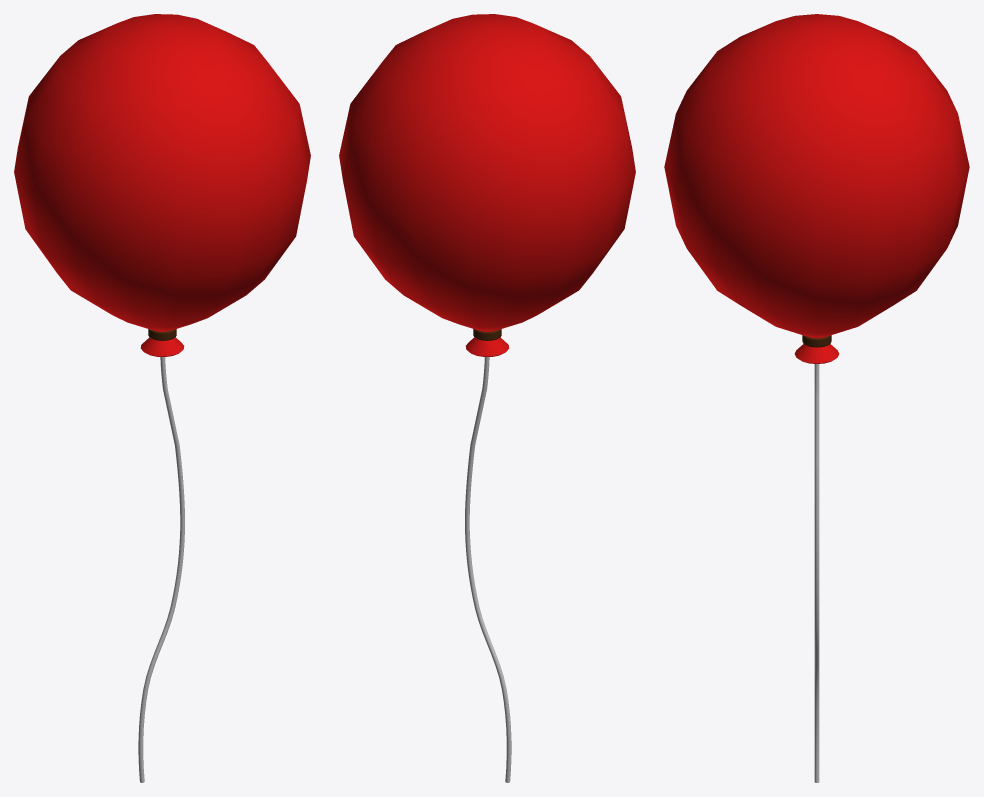
The model's file is Balloon_Red.FBX.
3 views of the same model, side by side, from view 1: azimuth 30°, elevation 25°; view 2: azimuth 150°, elevation 25°; view 3: azimuth 270°, elevation 25° (orthographic).
Parts seen in each view (by area): view 1: Sphere001; view 2: Sphere001; view 3: Sphere001.
Boxes of the visible parts, box(x1,y1,x2,y2) form: Sphere001: box(14, 14, 310, 782); Sphere001: box(339, 14, 635, 782); Sphere001: box(664, 14, 969, 782).
Bounding box in the file's own units: 62.15 × 172 × 62.15.
